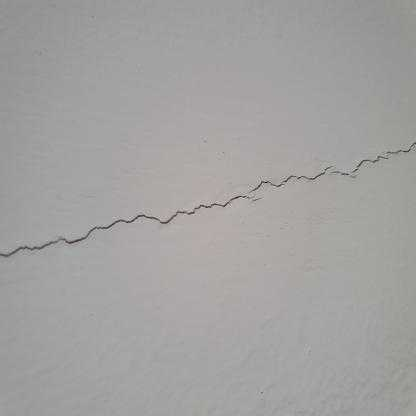crack: (0, 195, 251, 257), (296, 165, 334, 180), (248, 181, 284, 194), (386, 142, 416, 154), (356, 156, 388, 167), (329, 171, 357, 178), (282, 175, 297, 183), (252, 197, 261, 202), (350, 169, 358, 173)
